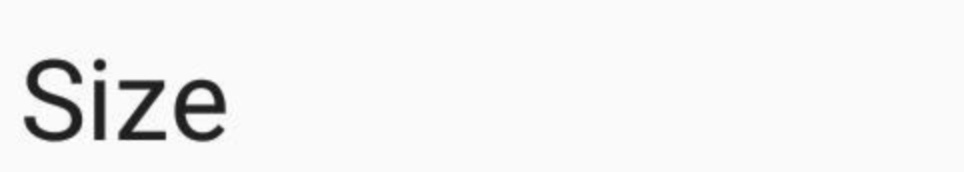TextView: (1, 1, 963, 171)
